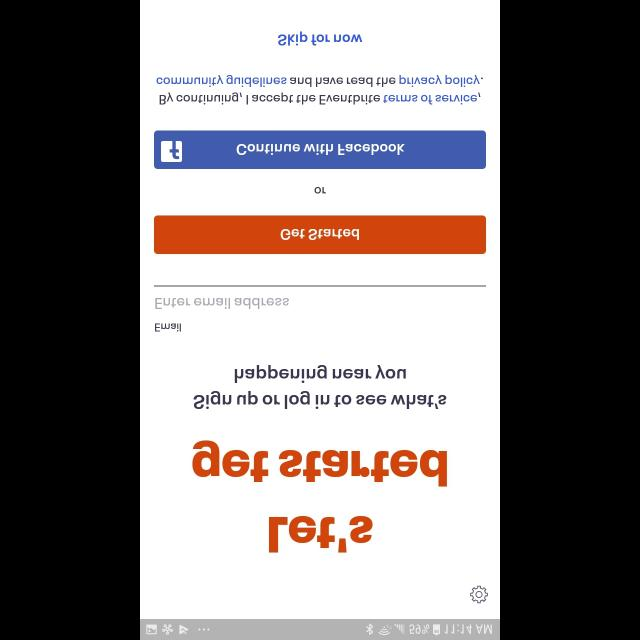icon: (470, 585, 488, 603)
input: (154, 285, 486, 309)
text: (192, 440, 448, 486), (194, 364, 446, 410), (157, 75, 483, 105), (269, 516, 373, 552), (278, 30, 362, 46), (155, 298, 289, 308), (155, 323, 181, 331), (314, 186, 326, 194)
textbutton: (154, 130, 486, 170), (154, 214, 486, 253)
uppertaskbar: (140, 619, 500, 639)
